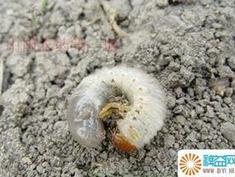grub: (65, 63, 169, 154)
